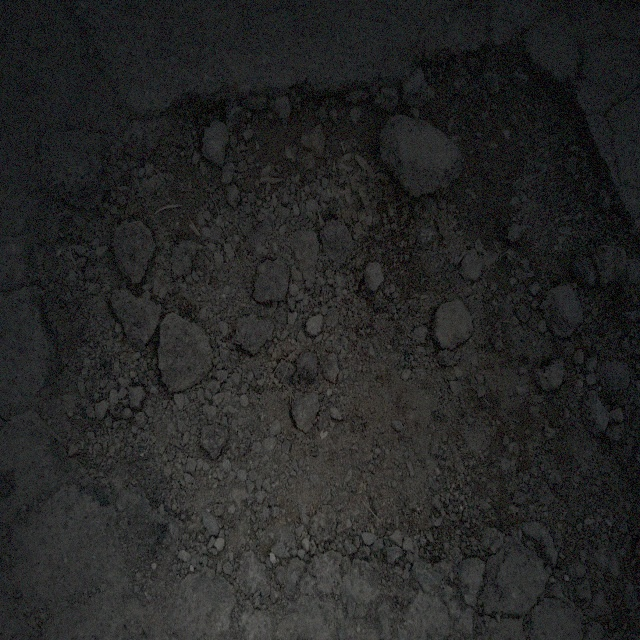pothole: (55, 42, 610, 598)
